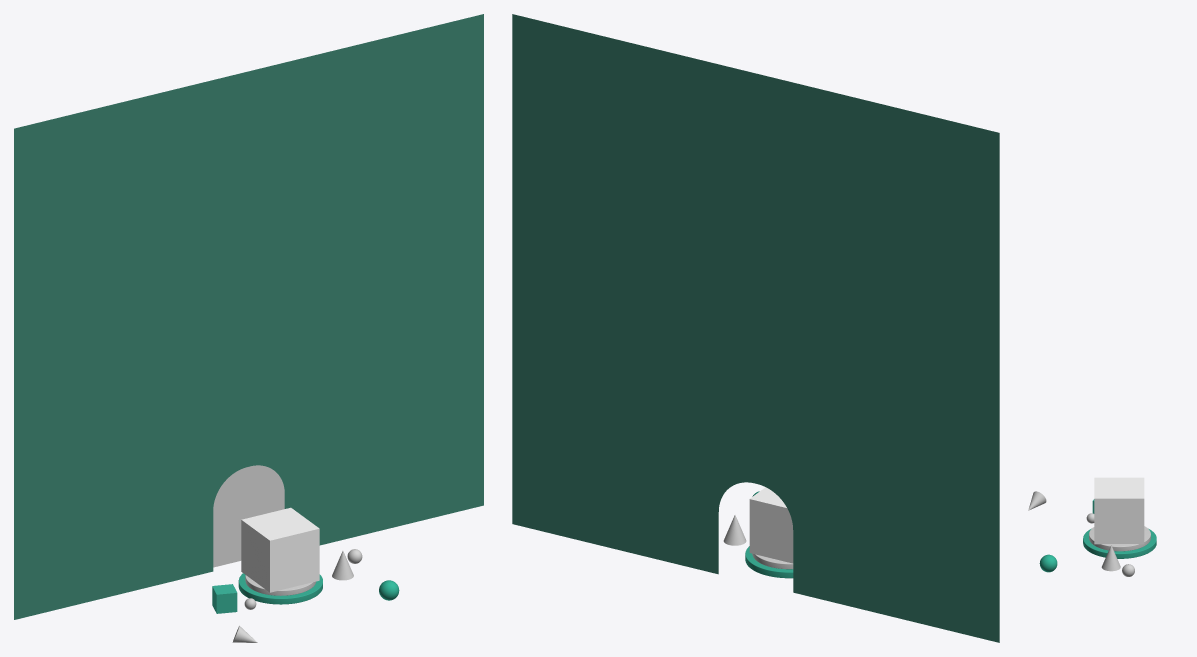
File: podium_portal_turquoise.glb
3 views of the same model, side by side, from view 1: azimuth 30°, elevation 25°; view 2: azimuth 150°, elevation 25°; view 3: azimuth 270°, elevation 25° (orthographic). The views are drawn at different scales.
Visible parts, largest first — view 1: Plane001, placeholder, Plane002, Cylinder002, Cube; view 2: Plane001, placeholder; view 3: placeholder, Cylinder002, Cylinder001, Cone, Sphere.
Part boxes in pixels (bbox=[...]): Plane001: bbox=[14, 14, 483, 619]; placeholder: bbox=[241, 507, 319, 592]; Plane002: bbox=[213, 465, 284, 567]; Cylinder002: bbox=[238, 573, 322, 604]; Cube: bbox=[212, 584, 237, 613]; Plane001: bbox=[512, 14, 999, 642]; placeholder: bbox=[749, 487, 793, 563]; placeholder: bbox=[1094, 477, 1144, 544]; Cylinder002: bbox=[1083, 528, 1156, 558]; Cylinder001: bbox=[1089, 526, 1150, 551]; Cone: bbox=[1101, 545, 1120, 571]; Sphere: bbox=[1039, 554, 1057, 572].
Bounding box in the file's own units: 2.72 × 2.72 × 0.887.
